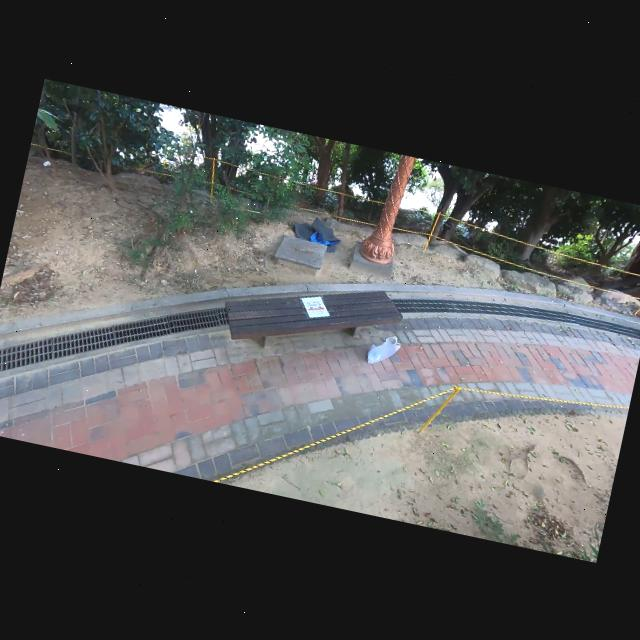trash: (280, 207, 346, 256), (362, 328, 406, 374)
